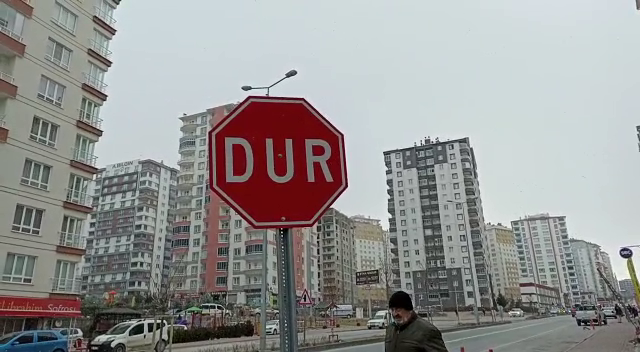stop: (206, 94, 350, 231)
